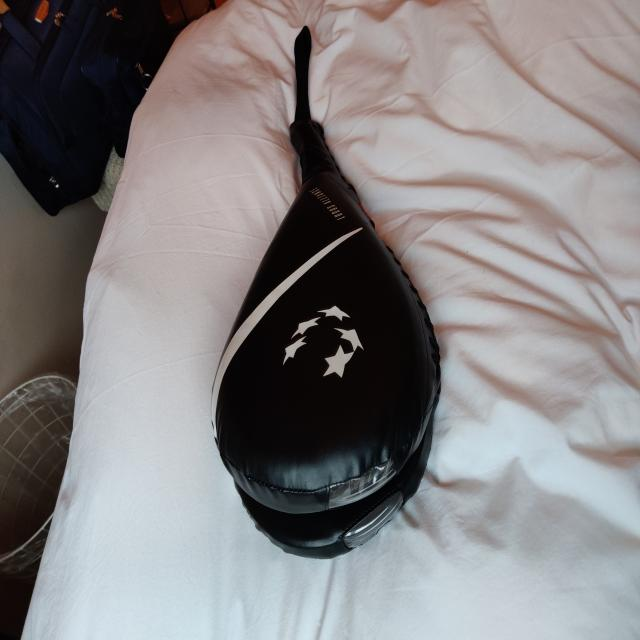paddle: (208, 118, 443, 562)
